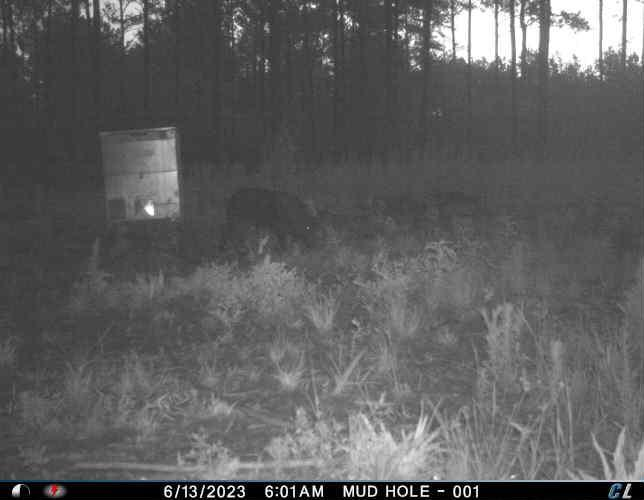Hog: (223, 185, 321, 258)
